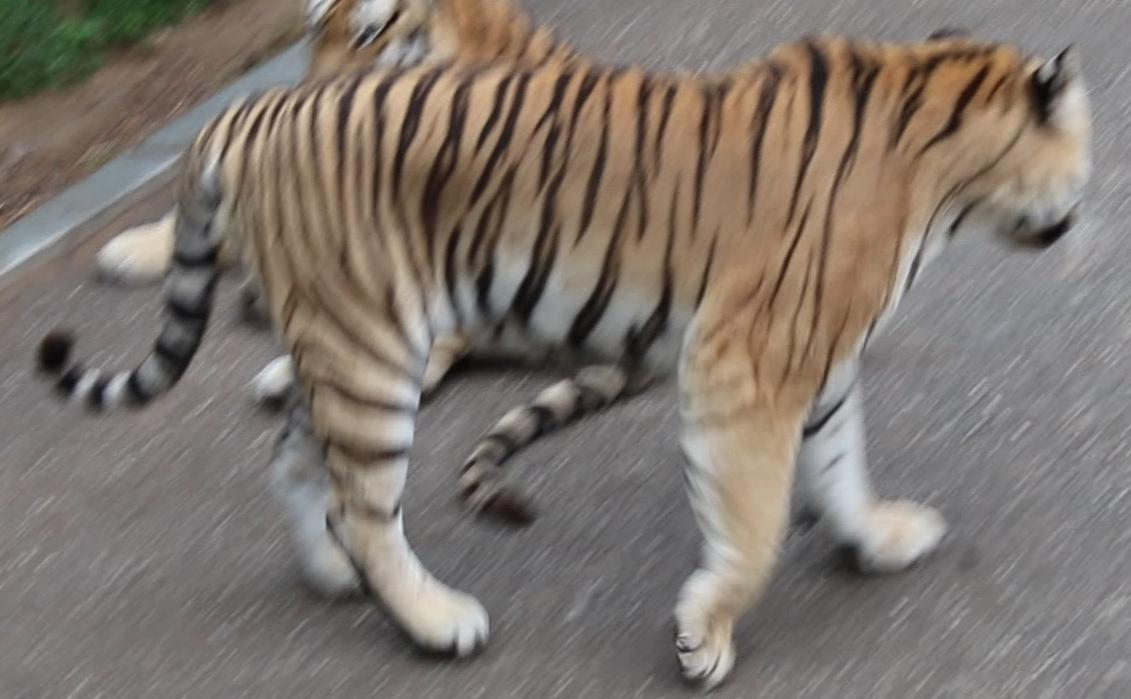tiger: (37, 0, 1091, 690)
